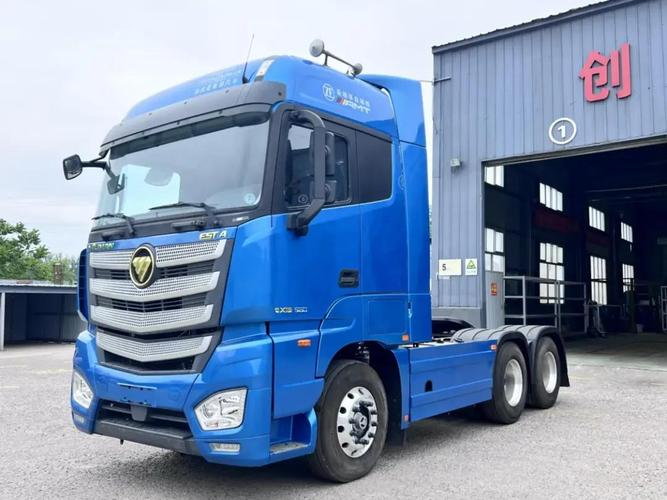卡车: (64, 52, 570, 463)
